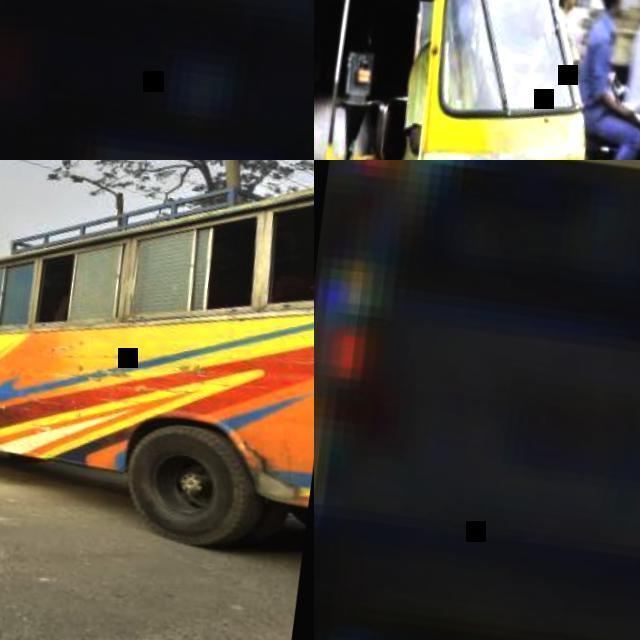car: (3, 177, 399, 556)
